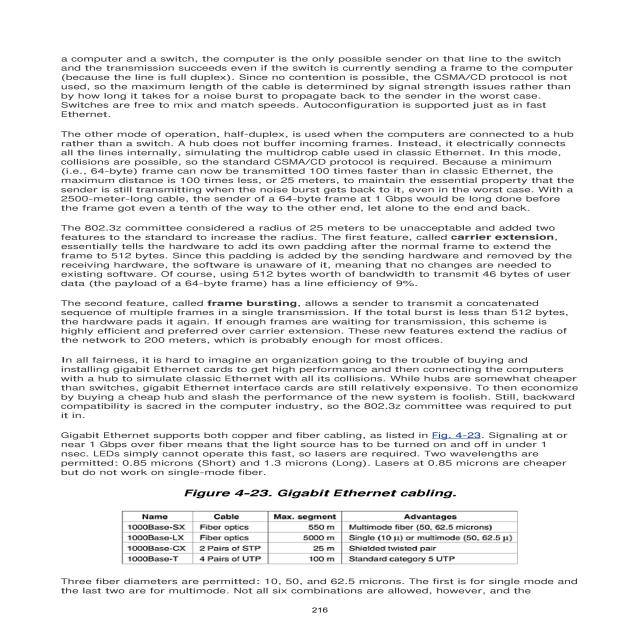diagram: (96, 480, 557, 569)
